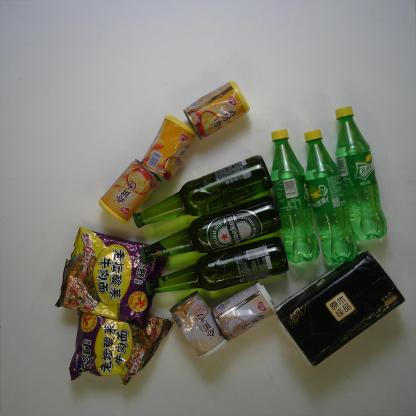Alcohol: (131, 154, 274, 232), (139, 192, 283, 266), (144, 235, 290, 296)
Canned Food: (96, 156, 162, 227), (164, 289, 228, 362), (181, 78, 254, 142), (139, 114, 201, 184), (211, 281, 274, 343)
Drink: (300, 125, 360, 269), (330, 106, 391, 244), (264, 124, 322, 267)
Instant Noodles: (52, 221, 170, 330), (60, 299, 179, 388)
Tissue: (272, 247, 409, 372)
